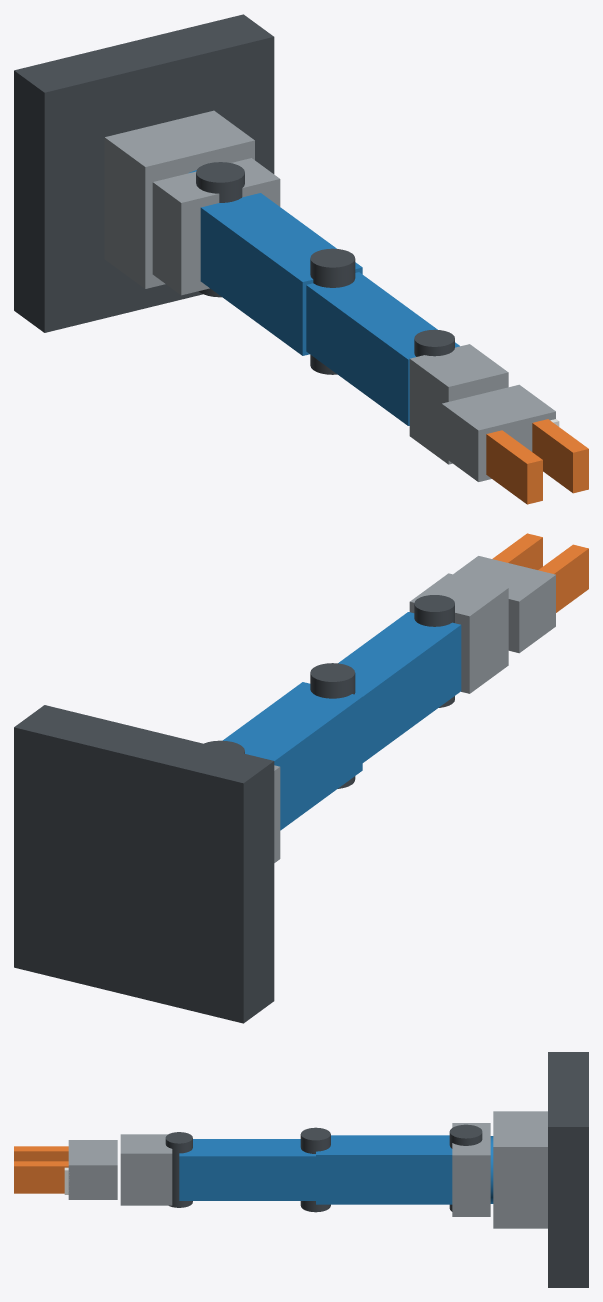
Rendered from so-arm.glb.
3 renders of one model, top to bottom at view 1: azimuth 30°, elevation 25°; view 2: azimuth 150°, elevation 25°; view 3: azimuth 270°, elevation 25°, orthographic. The views are drawn at different scales.
Visible parts, largest first — view 1: Base/base-plate, UpperArm/upper-arm-beam, Base/base-servo, Forearm/forearm-beam, Shoulder/shoulder-yoke, Gripper/gripper-body, Wrist/wrist-block, Jaw/moving-jaw, Gripper/fixed-jaw, Forearm/elbow-servo, UpperArm/shoulder-servo, Wrist/wrist-servo; view 2: Base/base-plate, UpperArm/upper-arm-beam, Forearm/forearm-beam, Wrist/wrist-block, Gripper/gripper-body, Jaw/moving-jaw, Forearm/elbow-servo, Wrist/wrist-servo, Gripper/fixed-jaw, Shoulder/shoulder-yoke; view 3: Base/base-plate, UpperArm/upper-arm-beam, Forearm/forearm-beam, Base/base-servo, Wrist/wrist-block, Shoulder/shoulder-yoke, Gripper/gripper-body, Gripper/fixed-jaw, Wrist/wrist-servo, Forearm/elbow-servo, Jaw/moving-jaw, UpperArm/shoulder-servo.
Part boxes in pixels (x1=…): Base/base-plate: x1=14, y1=14, x2=274, y2=332; UpperArm/upper-arm-beam: x1=200, y1=193, x2=362, y2=355; Base/base-servo: x1=104, y1=110, x2=254, y2=288; Forearm/forearm-beam: x1=306, y1=272, x2=459, y2=425; Shoulder/shoulder-yoke: x1=152, y1=158, x2=280, y2=295; Gripper/gripper-body: x1=441, y1=384, x2=555, y2=481; Wrist/wrist-block: x1=409, y1=344, x2=508, y2=464; Jaw/moving-jaw: x1=486, y1=430, x2=542, y2=504; Gripper/fixed-jaw: x1=532, y1=419, x2=588, y2=493; Forearm/elbow-servo: x1=310, y1=248, x2=355, y2=374; UpperArm/shoulder-servo: x1=196, y1=162, x2=244, y2=297; Wrist/wrist-servo: x1=414, y1=329, x2=454, y2=356; Base/base-plate: x1=14, y1=705, x2=274, y2=1023; UpperArm/upper-arm-beam: x1=223, y1=682, x2=362, y2=830; Forearm/forearm-beam: x1=338, y1=612, x2=461, y2=762; Wrist/wrist-block: x1=409, y1=573, x2=508, y2=693; Gripper/gripper-body: x1=453, y1=556, x2=555, y2=653; Jaw/moving-jaw: x1=538, y1=544, x2=588, y2=612; Forearm/elbow-servo: x1=310, y1=663, x2=355, y2=788; Wrist/wrist-servo: x1=414, y1=595, x2=454, y2=707; Gripper/fixed-jaw: x1=492, y1=533, x2=542, y2=569; Shoulder/shoulder-yoke: x1=274, y1=765, x2=280, y2=862; Base/base-plate: x1=548, y1=1052, x2=588, y2=1287; UpperArm/upper-arm-beam: x1=316, y1=1135, x2=452, y2=1204; Forearm/forearm-beam: x1=179, y1=1139, x2=315, y2=1200; Base/base-servo: x1=493, y1=1111, x2=547, y2=1228; Wrist/wrist-block: x1=120, y1=1134, x2=172, y2=1205; Shoulder/shoulder-yoke: x1=452, y1=1123, x2=490, y2=1216; Gripper/gripper-body: x1=68, y1=1140, x2=117, y2=1199; Gripper/fixed-jaw: x1=14, y1=1161, x2=68, y2=1193; Wrist/wrist-servo: x1=165, y1=1132, x2=192, y2=1207; Forearm/elbow-servo: x1=300, y1=1127, x2=330, y2=1212; Jaw/moving-jaw: x1=14, y1=1146, x2=68, y2=1161; UpperArm/shoulder-servo: x1=449, y1=1124, x2=482, y2=1211.
Size of the model in its own units: 0.13 by 0.13 by 0.421.
